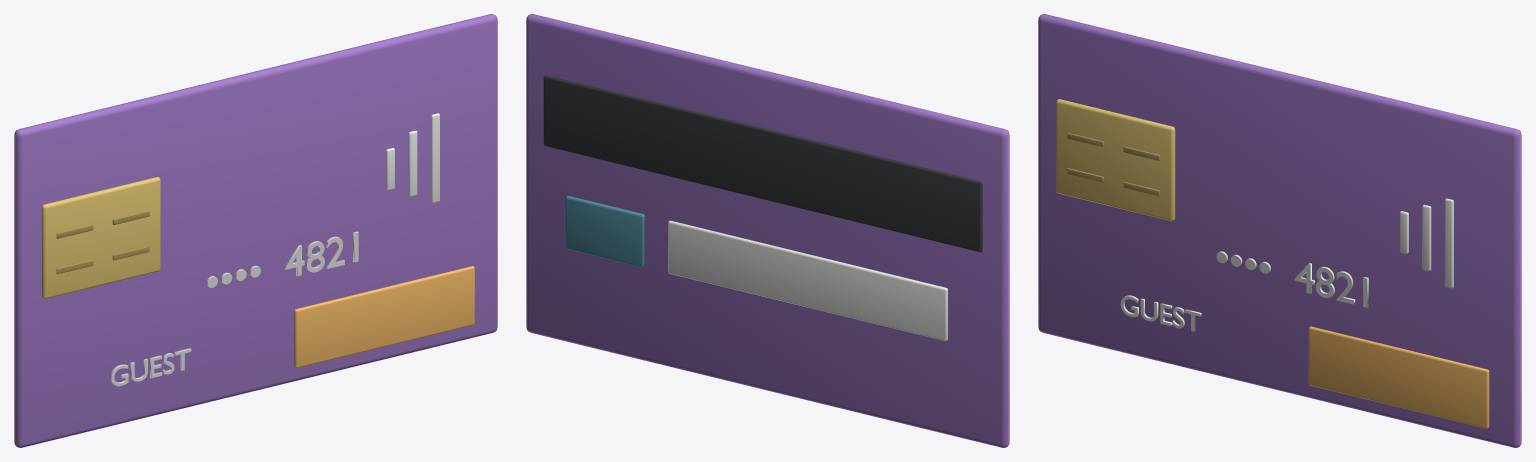
File: credit_card.glb
The picture shows the model from 3 angles, left to right: view 1: azimuth 30°, elevation 25°; view 2: azimuth 150°, elevation 25°; view 3: azimuth 330°, elevation 25°; orthographic projection.
Visible parts, largest first — view 1: Card_Body, Card_Accent, Card_Chip, Card_Number, Card_Holder, Card_Contactless_2, Card_Contactless_1; view 2: Card_Body, Card_BackStripe, Card_SignatureStrip, Card_CVVBlock; view 3: Card_Body, Card_Accent, Card_Chip, Card_Number, Card_Holder, Card_Contactless_2, Card_Contactless_1.
Part boxes in pixels (left/top/right/bottom): Card_Body: left=14, top=14, right=497, bottom=447; Card_Accent: left=294, top=266, right=474, bottom=368; Card_Chip: left=41, top=177, right=160, bottom=298; Card_Number: left=206, top=231, right=358, bottom=288; Card_Holder: left=110, top=348, right=191, bottom=386; Card_Contactless_2: left=431, top=113, right=439, bottom=203; Card_Contactless_1: left=408, top=130, right=417, bottom=196; Card_Body: left=526, top=14, right=1009, bottom=447; Card_BackStripe: left=543, top=75, right=982, bottom=252; Card_SignatureStrip: left=668, top=220, right=947, bottom=341; Card_CVVBlock: left=565, top=195, right=644, bottom=267; Card_Body: left=1038, top=14, right=1521, bottom=447; Card_Accent: left=1308, top=326, right=1489, bottom=428; Card_Chip: left=1056, top=99, right=1175, bottom=221; Card_Number: left=1216, top=251, right=1368, bottom=307; Card_Holder: left=1120, top=295, right=1201, bottom=331; Card_Contactless_2: left=1445, top=198, right=1453, bottom=288; Card_Contactless_1: left=1422, top=204, right=1431, bottom=270.
Bounding box in the file's own units: 0.0856 × 0.054 × 0.0043.
